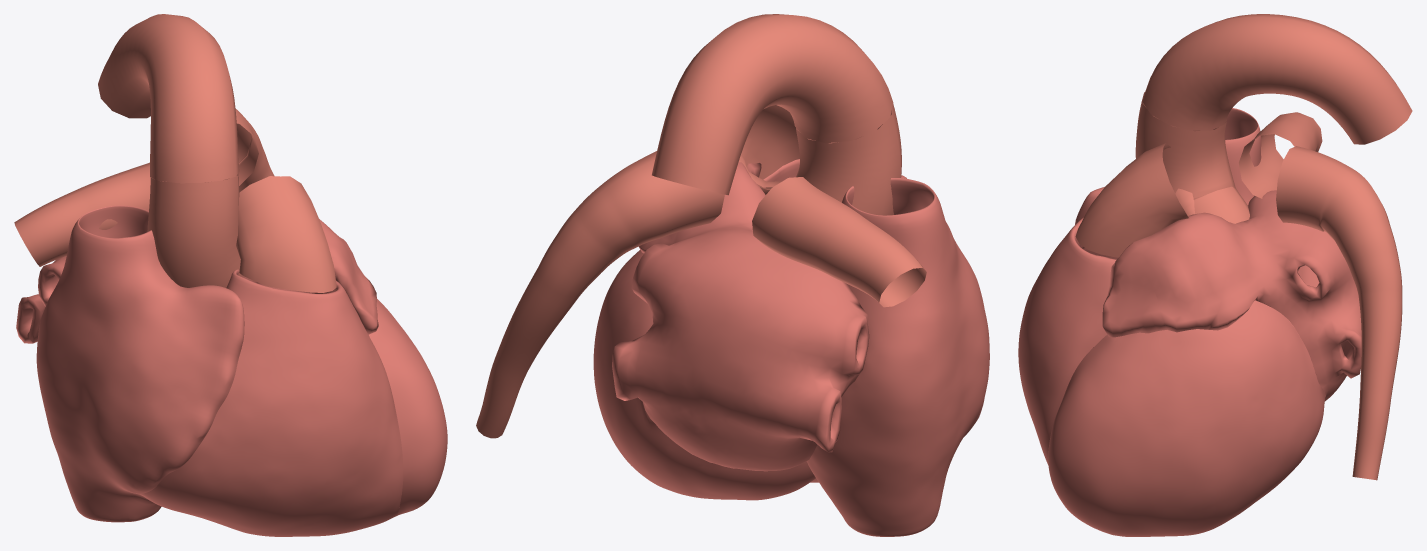
The model's file is heart.glb.
3 views of the same model, side by side, from view 1: azimuth 30°, elevation 25°; view 2: azimuth 150°, elevation 25°; view 3: azimuth 270°, elevation 25° (orthographic). The views are drawn at different scales.
Visible parts, largest first — view 1: Right atrium.001, Right ventricle.001, Aortic arch.001, Pulmonary trunk.001, Ascending aorta.001, Left ventricle.001, Right pulmonary artery.001, Left atrium.001, Left pulmonary artery.001; view 2: Left atrium.001, Right atrium.001, Aortic arch.001, Left pulmonary artery.001, Left ventricle.001, Right pulmonary artery.001, Ascending aorta.001, Pulmonary trunk.001; view 3: Left ventricle.001, Left atrium.001, Aortic arch.001, Left pulmonary artery.001, Right ventricle.001, Pulmonary trunk.001, Ascending aorta.001, Right pulmonary artery.001, Right atrium.001.
Boxes of the visible parts, x1,y1,x2,y2 form: Right atrium.001: (36, 205, 244, 522); Right ventricle.001: (141, 269, 403, 536); Aortic arch.001: (98, 14, 239, 182); Pulmonary trunk.001: (236, 176, 336, 292); Ascending aorta.001: (147, 173, 241, 287); Left ventricle.001: (369, 299, 447, 515); Right pulmonary artery.001: (14, 162, 150, 266); Left atrium.001: (16, 219, 378, 343); Left pulmonary artery.001: (235, 109, 274, 192); Left atrium.001: (612, 162, 869, 471); Right atrium.001: (806, 175, 989, 536); Aortic arch.001: (652, 14, 893, 195); Left pulmonary artery.001: (476, 151, 724, 438); Left ventricle.001: (593, 250, 815, 500); Right pulmonary artery.001: (752, 177, 926, 307); Ascending aorta.001: (796, 103, 901, 215); Pulmonary trunk.001: (738, 105, 834, 194); Left ventricle.001: (1048, 300, 1325, 536); Left atrium.001: (1102, 190, 1361, 401); Aortic arch.001: (1142, 14, 1412, 144); Left pulmonary artery.001: (1276, 146, 1402, 480); Right ventricle.001: (1018, 217, 1118, 464); Pulmonary trunk.001: (1075, 143, 1195, 257); Ascending aorta.001: (1135, 92, 1249, 223); Right pulmonary artery.001: (1239, 112, 1322, 198); Right atrium.001: (1075, 108, 1261, 300).
Size of the model in its own units: 0.1279 by 0.1601 by 0.1242.
